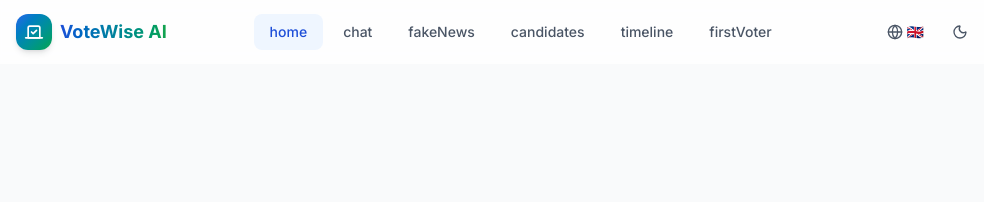
Test case: Navbar Component › toggles language menu when globe icon is clicked
The image size is (984, 202).
Step 1. Click the button named "Select language" → (905, 32), box [874, 14, 936, 50]
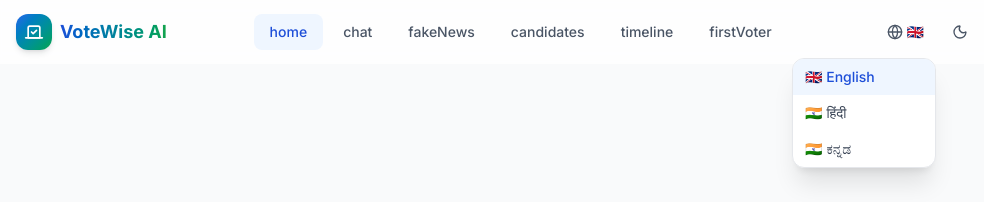
expect the button "🇬🇧 English" is shown: met, box [793, 59, 935, 95]
expect the button "🇮🇳 हिंदी" is shown: met, box [793, 95, 935, 131]
expect the button "🇮🇳 ಕನ್ನಡ" is shown: met, box [793, 131, 935, 167]
